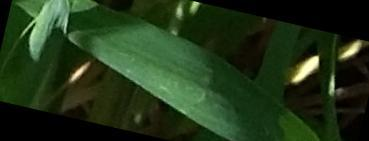Potato: (75, 2, 208, 116)
